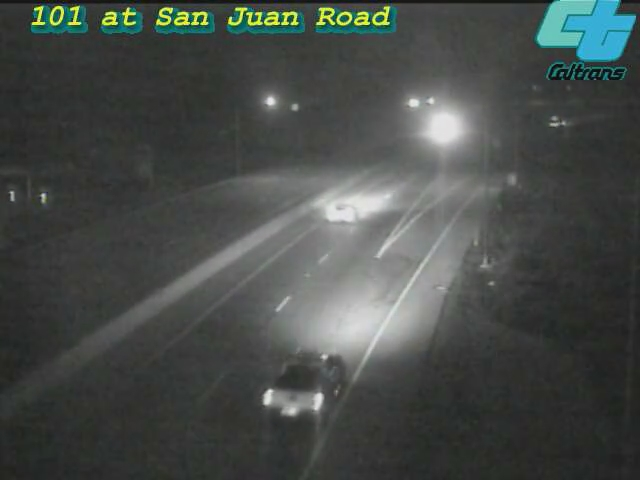vehicle: (256, 324, 366, 434), (301, 171, 381, 251), (416, 104, 466, 154), (533, 96, 583, 146)
